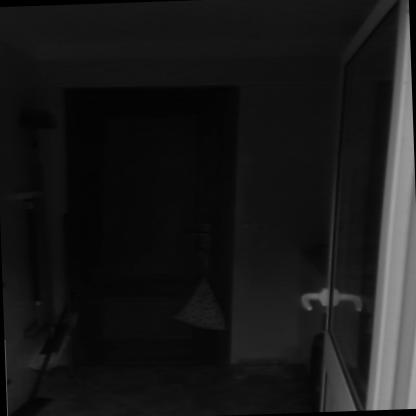closed: (45, 65, 286, 406)
